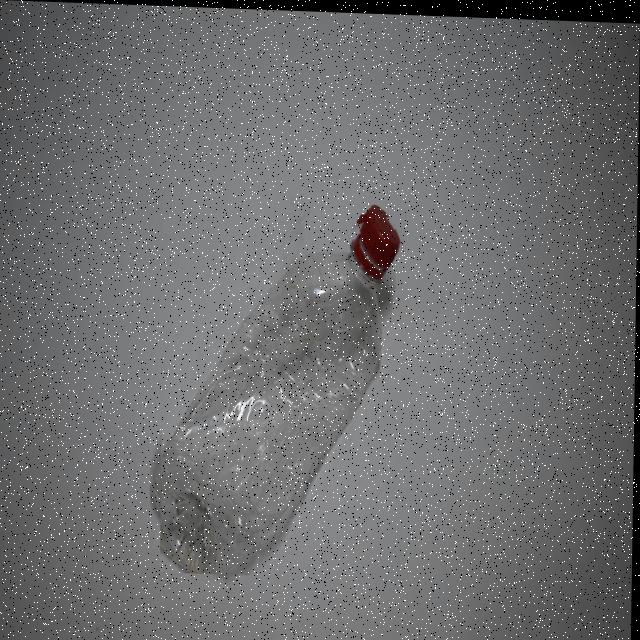litter: (161, 210, 413, 578), (351, 191, 411, 281)
